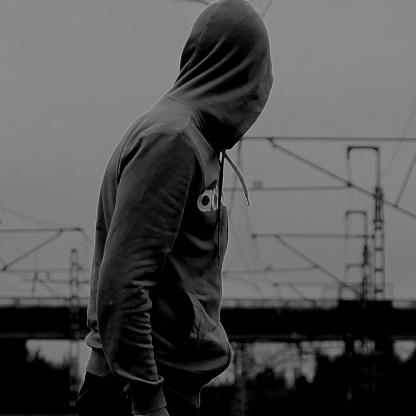dress: (77, 0, 280, 416)
